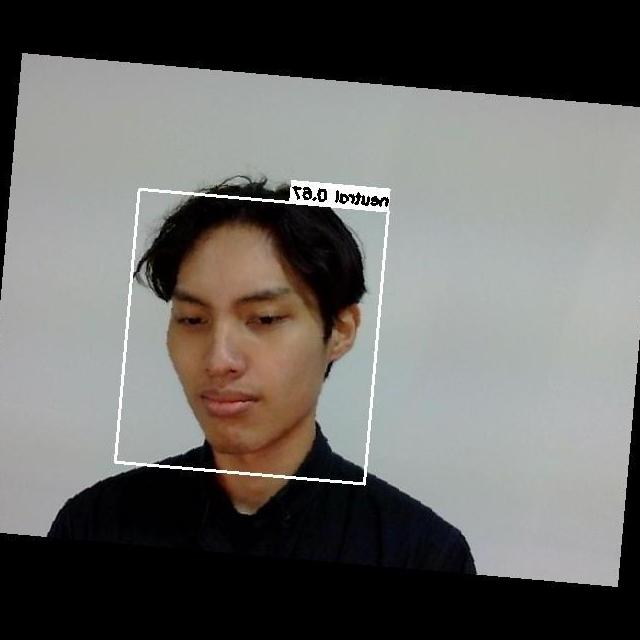Fear: (152, 261, 317, 460)
